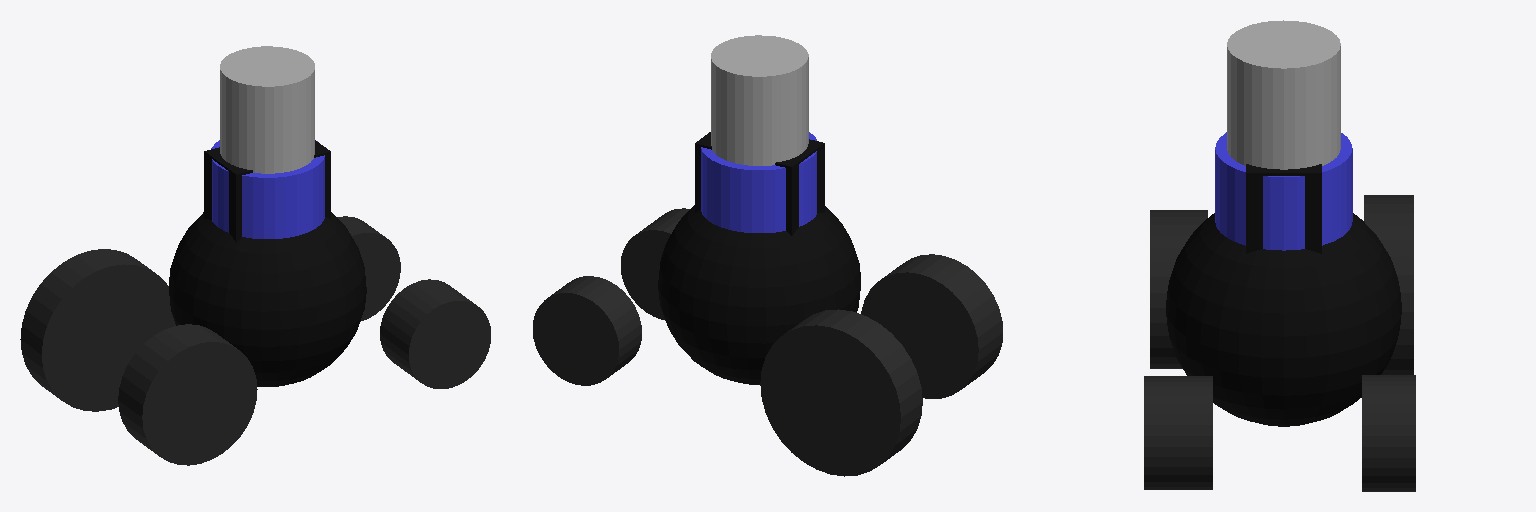
robot.urdf — evolved_robot:
<?xml version="1.0"?>
<robot name="evolved_robot">
  <material name="metal">
    <color rgba="0.7 0.7 0.7 1.0"/>
  </material>
  <material name="plastic">
    <color rgba="0.3 0.3 0.9 1.0"/>
  </material>
  <material name="rubber">
    <color rgba="0.1 0.1 0.1 1.0"/>
  </material>
  <material name="red">
    <color rgba="1.0 0.0 0.0 1.0"/>
  </material>
  <material name="wheel_material">
    <color rgba="0.2 0.2 0.2 1.0"/>
  </material>
  <link name="base_link">
    <visual>
      <geometry><sphere radius="0.11127265058944924"/></geometry>
      <material name="rubber"/>
    </visual>
    <collision>
      <geometry><sphere radius="0.11127265058944924"/></geometry>
    </collision>
    <inertial>
      <mass value="5.0"/>
      <inertia ixx="0.04952641107680663" ixy="0" ixz="0" 
               iyy="0.04952641107680663" iyz="0" 
               izz="0.04952641107680663"/>
    </inertial>
  </link>
  <link name="link1">
    <visual>
      <geometry><cylinder radius="0.06461690782080083" length="0.222763523738771"/></geometry>
      <material name="plastic"/>
    </visual>
    <collision>
      <geometry><cylinder radius="0.06461690782080083" length="0.222763523738771"/></geometry>
    </collision>
    <inertial>
      <mass value="0.5"/>
      <inertia ixx="0.0051791351531233" ixy="0" ixz="0" 
               iyy="0.0051791351531233" iyz="0" 
               izz="0.0020876723881609357"/>
    </inertial>
  </link>
  <joint name="joint1" type="revolute">
    <parent link="base_link"/>
    <child link="link1"/>
    <origin xyz="0 0 0.054809192242424254" rpy="0 0 0"/>
    <axis xyz="-0.6238258749805112 -0.5672342990279865 -0.5376676740432033"/>
    <dynamics damping="0.6376090538927046" friction="0.1"/>
    <limit lower="-1.2613525729896713" upper="1.4150721101817274" effort="100" velocity="100"/>
  </joint>
  <link name="link2">
    <visual>
      <geometry>
        <cylinder radius="0.054725586248147544" length="0.05017284003282977"/>
      </geometry>
      <material name="wheel_material"/>
    </visual>
    <collision>
      <geometry>
        <cylinder radius="0.054725586248147544" length="0.05017284003282977"/>
      </geometry>
    </collision>
    <inertial>
      <mass value="1.0"/>
      <inertia ixx="0.000958498603964186" ixy="0" ixz="0" 
               iyy="0.000958498603964186" iyz="0" 
               izz="0.0014974448951017177"/>
    </inertial>
  </link>
  <joint name="joint2" type="continuous">
    <parent link="base_link"/>
    <child link="link2"/>
    <origin xyz="0.16026085789164765 0.09874790163427583 -0.054809192242424254" rpy="1.5708 0 0"/>
    <axis xyz="0 1 0"/>
    <dynamics damping="0.5427877111602113" friction="0.1"/>
  </joint>
  <link name="link3">
    <visual>
      <geometry>
        <cylinder radius="0.05354885574299693" length="0.06481733612685017"/>
      </geometry>
      <material name="wheel_material"/>
    </visual>
    <collision>
      <geometry>
        <cylinder radius="0.05354885574299693" length="0.06481733612685017"/>
      </geometry>
    </collision>
    <inertial>
      <mass value="1.0"/>
      <inertia ixx="0.0010669772430611634" ixy="0" ixz="0" 
               iyy="0.0010669772430611634" iyz="0" 
               izz="0.0014337399756921476"/>
    </inertial>
  </link>
  <joint name="joint3" type="continuous">
    <parent link="base_link"/>
    <child link="link3"/>
    <origin xyz="0.16026085789164765 -0.09874790163427583 -0.054809192242424254" rpy="1.5708 0 0"/>
    <axis xyz="0 1 0"/>
    <dynamics damping="0.9361071883416644" friction="0.1"/>
  </joint>
  <link name="link4">
    <visual>
      <geometry>
        <cylinder radius="0.08875857303974351" length="0.047561744494496905"/>
      </geometry>
      <material name="wheel_material"/>
    </visual>
    <collision>
      <geometry>
        <cylinder radius="0.08875857303974351" length="0.047561744494496905"/>
      </geometry>
    </collision>
    <inertial>
      <mass value="1.0"/>
      <inertia ixx="0.0021580310336261877" ixy="0" ixz="0" 
               iyy="0.0021580310336261877" iyz="0" 
               izz="0.003939042144025741"/>
    </inertial>
  </link>
  <joint name="joint4" type="continuous">
    <parent link="base_link"/>
    <child link="link4"/>
    <origin xyz="-0.16026085789164765 0.09874790163427583 -0.054809192242424254" rpy="1.5708 0 0"/>
    <axis xyz="0 1 0"/>
    <dynamics damping="0.4434849910735845" friction="0.1"/>
  </joint>
  <link name="link5">
    <visual>
      <geometry><box size="0.1224750609236127 0.07158364043844442 0.1283965184327871"/></geometry>
      <material name="rubber"/>
    </visual>
    <collision>
      <geometry><box size="0.1224750609236127 0.07158364043844442 0.1283965184327871"/></geometry>
    </collision>
    <inertial>
      <mass value="0.5"/>
      <inertia ixx="0.0018008236270067944" ixy="0" ixz="0" 
               iyy="0.0026238172078253065" iyz="0" 
               izz="0.001677029843888595"/>
    </inertial>
  </link>
  <joint name="joint5" type="fixed">
    <parent link="base_link"/>
    <child link="link5"/>
    <origin xyz="0 0 0.10480919224242426" rpy="0 0 0"/>
    <axis xyz="-0.5659210040455624 -0.7039867086944422 0.4291108611555166"/>
    <dynamics damping="0.7872694871185734" friction="0.1"/>
  </joint>
  <link name="link6">
    <visual>
      <geometry>
        <cylinder radius="0.0745586118969245" length="0.05403690651694784"/>
      </geometry>
      <material name="wheel_material"/>
    </visual>
    <collision>
      <geometry>
        <cylinder radius="0.0745586118969245" length="0.05403690651694784"/>
      </geometry>
    </collision>
    <inertial>
      <mass value="1.0"/>
      <inertia ixx="0.0016330789241591666" ixy="0" ixz="0" 
               iyy="0.0016330789241591666" iyz="0" 
               izz="0.0027794933039981063"/>
    </inertial>
  </link>
  <joint name="joint6" type="continuous">
    <parent link="base_link"/>
    <child link="link6"/>
    <origin xyz="-0.16026085789164765 -0.09874790163427583 -0.054809192242424254" rpy="1.5708 0 0"/>
    <axis xyz="0 1 0"/>
    <dynamics damping="0.9270203448565811" friction="0.1"/>
  </joint>
  <link name="link7">
    <visual>
      <geometry><cylinder radius="0.05355776187341256" length="0.23802857992927146"/></geometry>
      <material name="metal"/>
    </visual>
    <collision>
      <geometry><cylinder radius="0.05355776187341256" length="0.23802857992927146"/></geometry>
    </collision>
    <inertial>
      <mass value="0.5"/>
      <inertia ixx="0.005438575536151089" ixy="0" ixz="0" 
               iyy="0.005438575536151089" iyz="0" 
               izz="0.001434216928444582"/>
    </inertial>
  </link>
  <joint name="joint7" type="revolute">
    <parent link="base_link"/>
    <child link="link7"/>
    <origin xyz="0 0 0.15480919224242426" rpy="0 0 0"/>
    <axis xyz="0.15026216234492387 0.8468559181441082 0.5101532480262447"/>
    <dynamics damping="0.1" friction="0.1"/>
    <limit lower="-1.6841203627512558" upper="0.0" effort="100" velocity="100"/>
  </joint>
</robot>

--- Render facts (derived) ---
Views: 3 orthographic renders of the robot side by side, from view 1: azimuth 30°, elevation 25°; view 2: azimuth 150°, elevation 25°; view 3: azimuth 270°, elevation 25°.
Model evolved_robot with 8 links and 7 joints (2 revolute, 4 continuous, 1 fixed), rooted at base_link, posed all joints at 0.
Links seen in each view (by area): view 1: base_link, link4, link6, link7, link3, link1, link2, link5; view 2: base_link, link4, link6, link7, link2, link1, link3, link5; view 3: base_link, link7, link1, link3, link2, link4, link6, link5.
Link boxes in pixels (box(x1,y1,x2,y2)): base_link: box(169, 212, 366, 386); link4: box(20, 249, 175, 411); link6: box(118, 324, 257, 465); link7: box(220, 46, 314, 173); link3: box(380, 279, 490, 388); link1: box(211, 140, 324, 238); link2: box(337, 216, 400, 321); link5: box(204, 140, 330, 242); base_link: box(658, 205, 860, 384); link4: box(760, 309, 922, 476); link6: box(861, 254, 1002, 398); link7: box(711, 35, 808, 165); link2: box(533, 276, 641, 385); link1: box(701, 132, 816, 232); link3: box(621, 208, 689, 319); link5: box(695, 132, 824, 235); base_link: box(1166, 213, 1401, 426); link7: box(1227, 20, 1340, 169); link1: box(1215, 132, 1352, 250); link3: box(1144, 376, 1212, 489); link2: box(1362, 375, 1415, 491); link4: box(1364, 195, 1413, 374); link6: box(1150, 210, 1207, 368); link5: box(1246, 164, 1321, 253).
Size in the robot's own frame: 0.464 by 0.255 by 0.4174 metres.
Geometry: primitives only (box / cylinder / sphere), no mesh files.